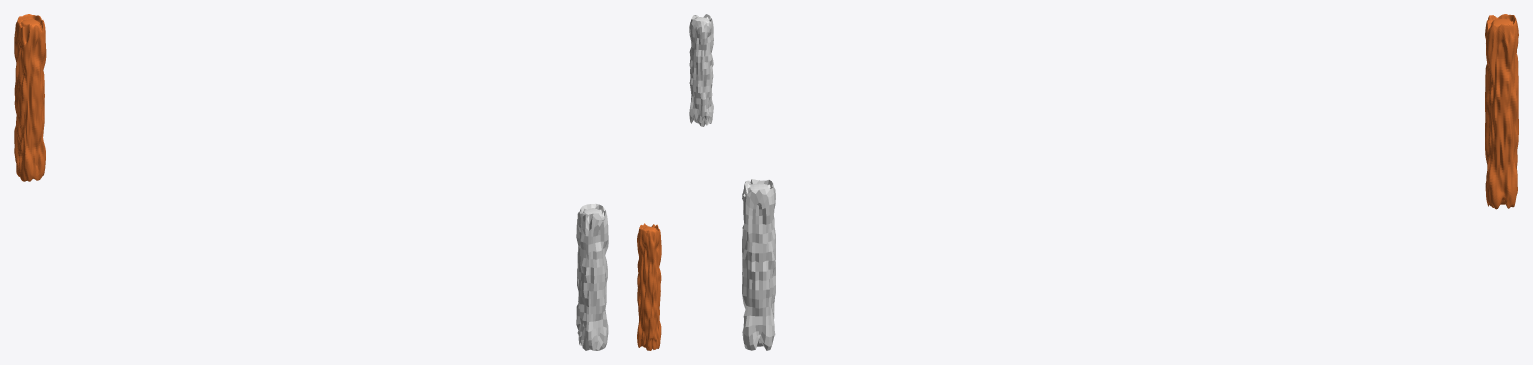
The model's file is 17-Pillar.fbx.
The picture shows the model from 3 angles, left to right: view 1: azimuth 30°, elevation 25°; view 2: azimuth 150°, elevation 25°; view 3: azimuth 270°, elevation 25°; orthographic projection. The views are drawn at different scales.
Parts seen in each view (by area): view 1: Pillar, GamePillar; view 2: Pillar, GamePillar; view 3: Pillar, GamePillar.
Boxes of the visible parts, box(x1,y1,x2,y2) form: Pillar: box(14, 14, 46, 181); GamePillar: box(576, 203, 608, 350); Pillar: box(637, 223, 661, 350); GamePillar: box(689, 14, 713, 126); Pillar: box(1485, 14, 1518, 209); GamePillar: box(742, 179, 775, 350).
Bounding box in the file's own units: 910 × 507 × 1909.
